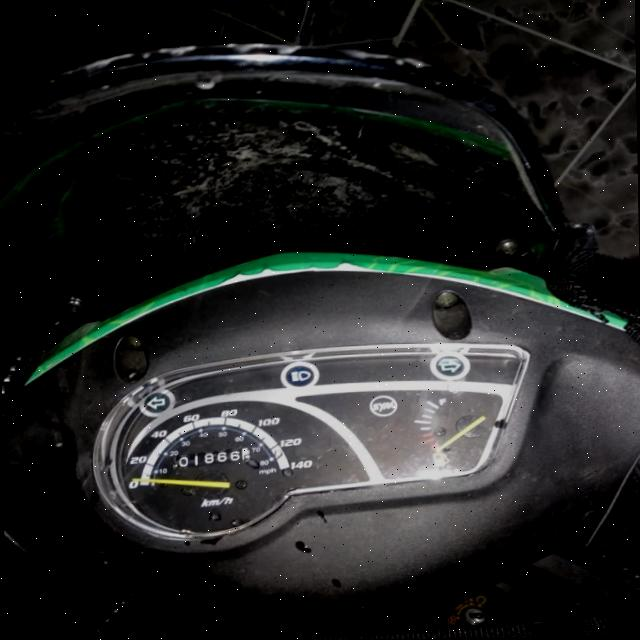odometer: (169, 446, 253, 468)
